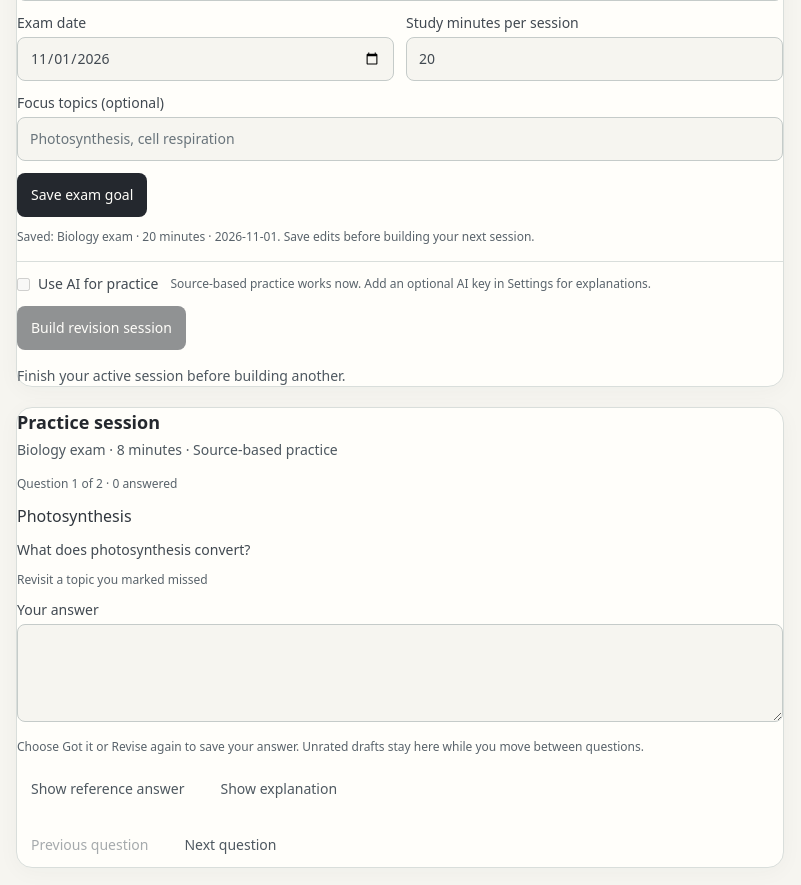
Test: preserves unsaved answers to other questions when one answer is rated
The width and height of the screenshot is (801, 885).
(page scrolled)
Expected: the text box labelled "Your answer" is shown, [17,624,783,722]
Click the button "Next question". click: {"x": 230, "y": 845}
box: [170,823,290,867]
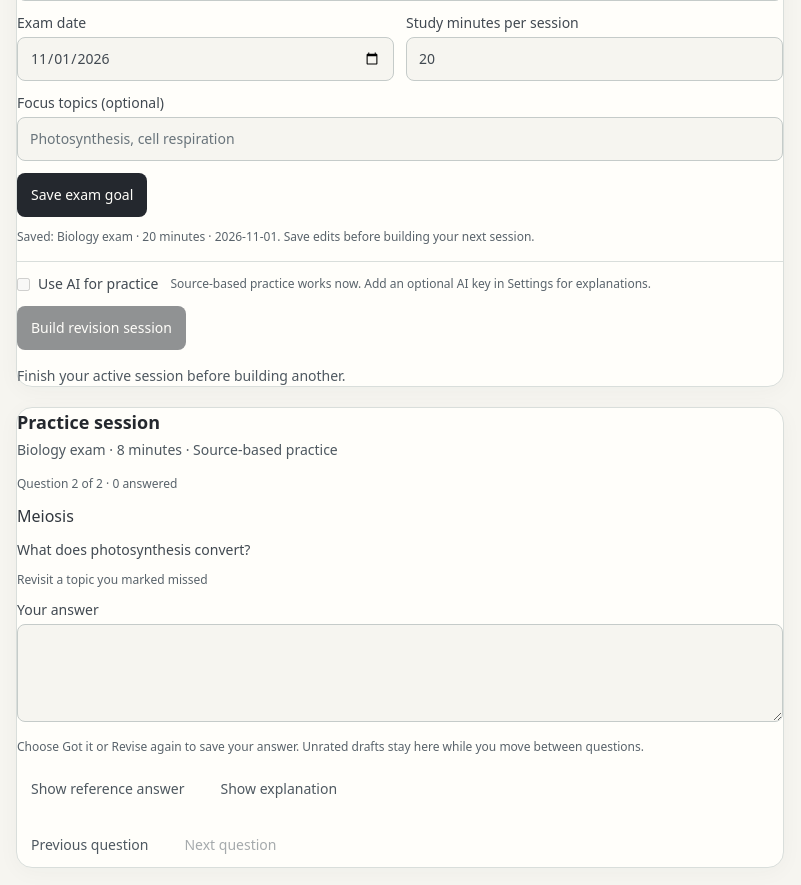
Type "Keep this second draft" into the text box labelled "Your answer". click: {"x": 400, "y": 673}
box: [17,624,783,722]
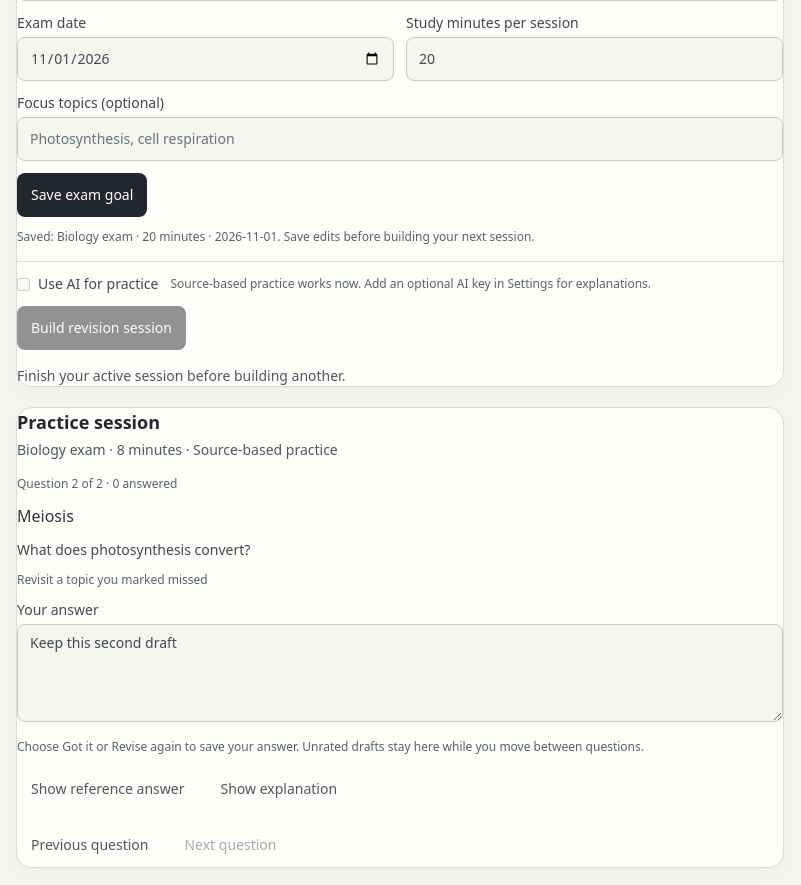
Click the button "Previous question". click: {"x": 90, "y": 845}
box: [17,823,162,867]
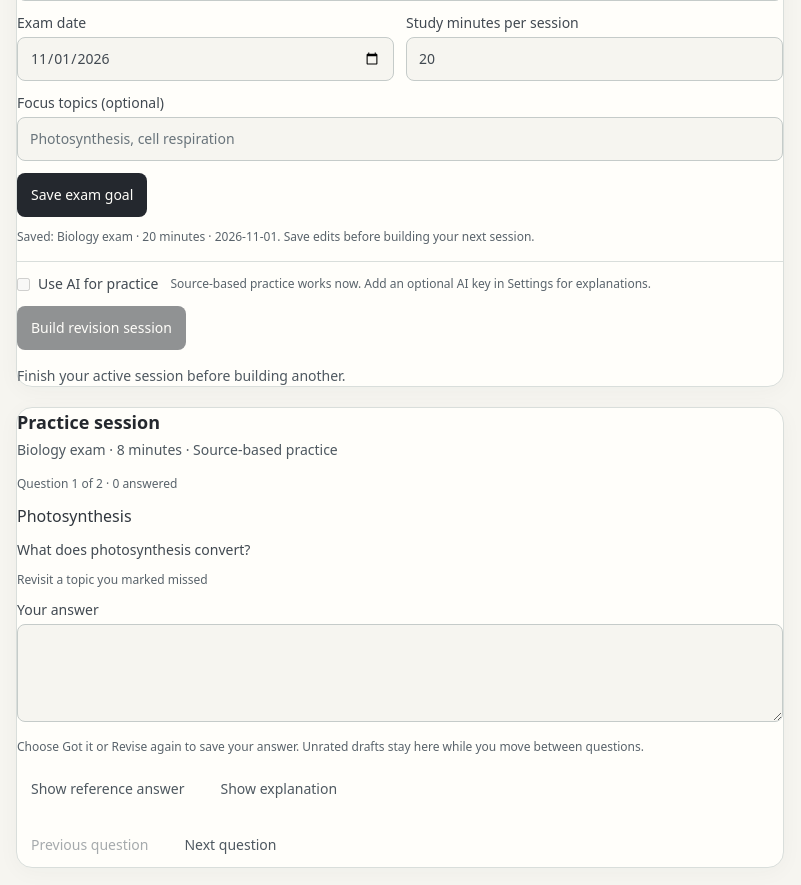
Type "First saved answer" into the text box labelled "Your answer". click: {"x": 400, "y": 673}
box: [17,624,783,722]
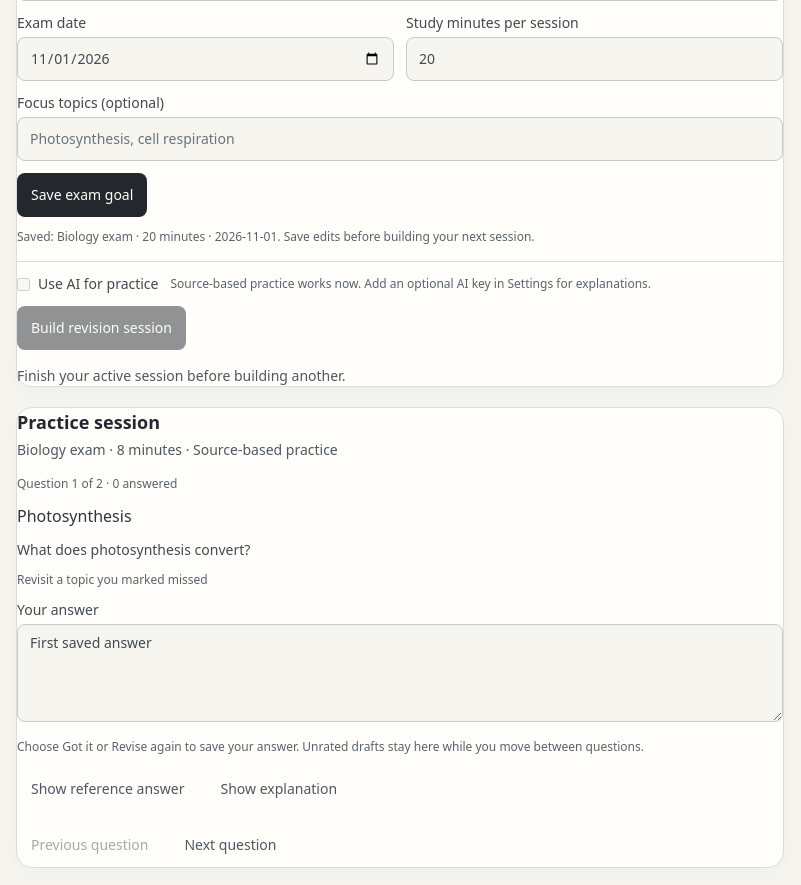
Click the button "Show reference answer". click: {"x": 108, "y": 789}
box: [17,767,198,811]
(page scrolled)
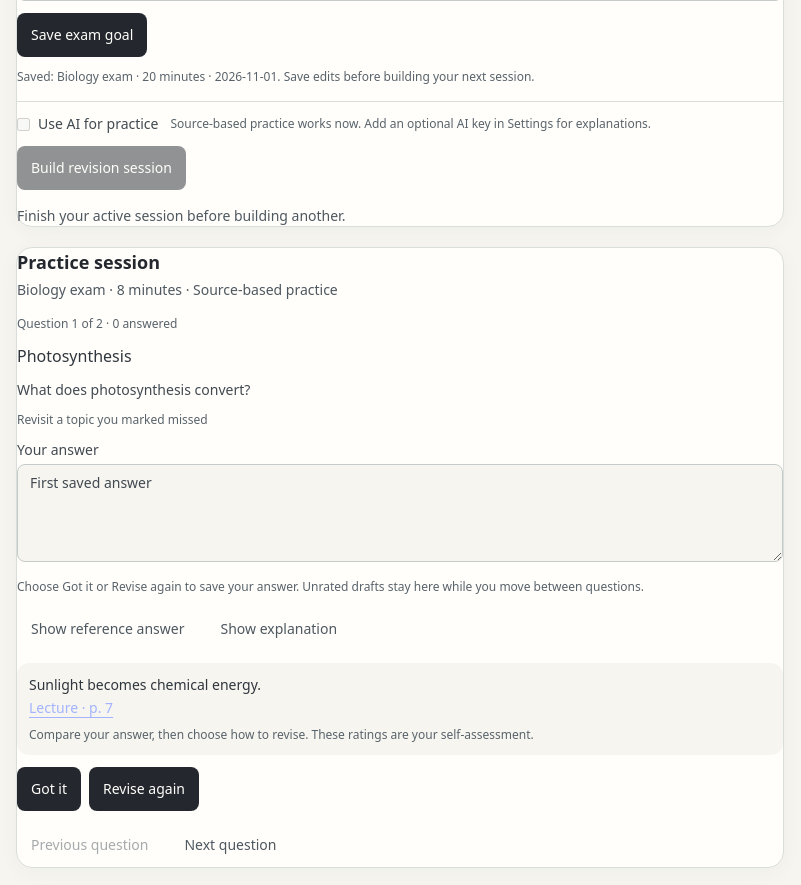
Click the button "Got it". click: {"x": 49, "y": 789}
box: [17,767,81,811]
(page scrolled)
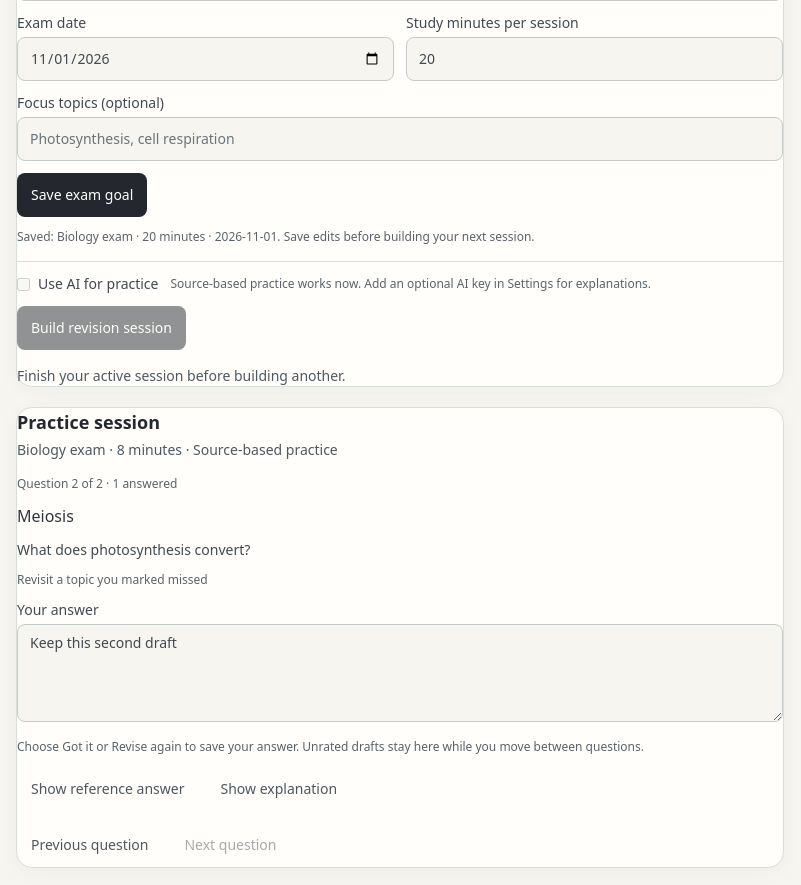
Expected: the text "Question 2 of 2 · 1 answered" is shown, [17,475,177,492]
Expected: the text box labelled "Your answer" holds "Keep this second draft", [17,624,783,722]
